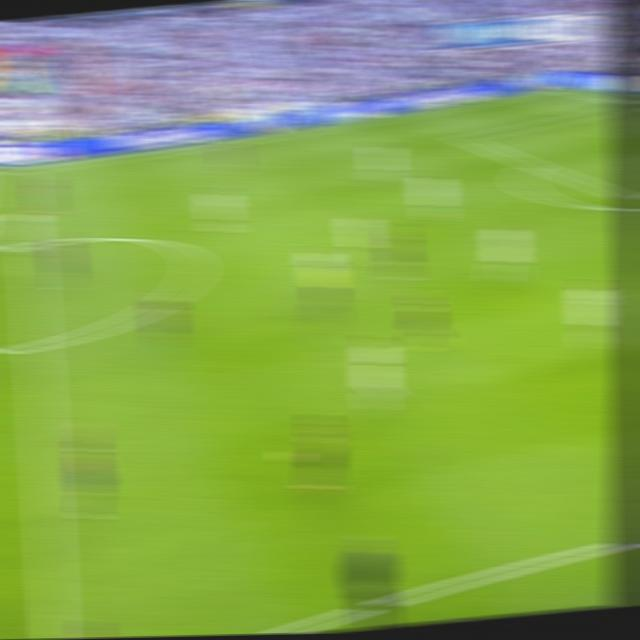bigarea_bottom_outter: (522, 156, 545, 171)
halfcircle_bottom: (21, 328, 51, 360)
halfcircle_top: (17, 234, 44, 254)
midline_top_intersection: (13, 163, 37, 178)
